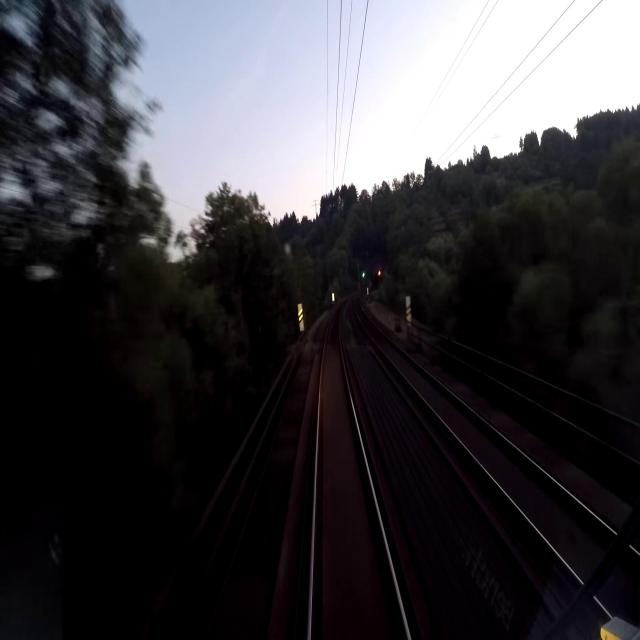rail-track: (356, 293, 609, 575), (311, 304, 407, 639)
